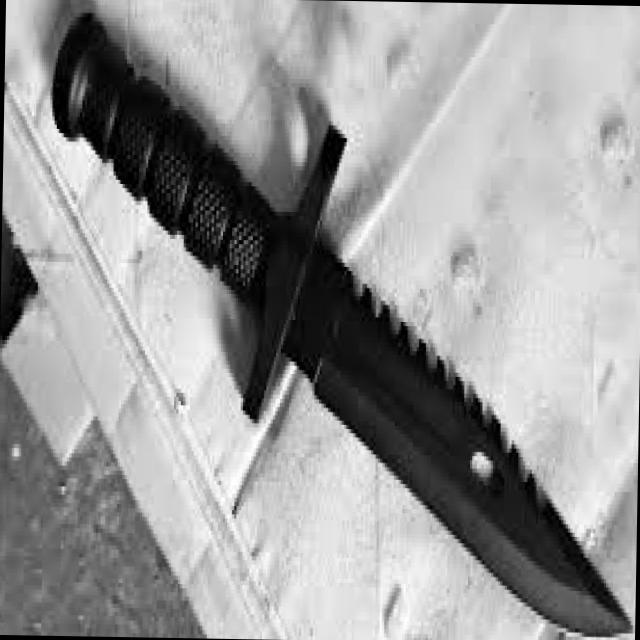Gun: (26, 0, 640, 640)
